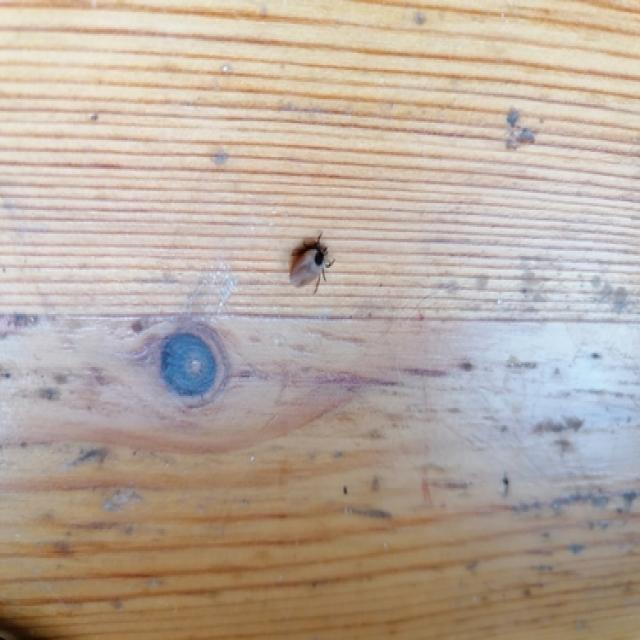Ixodes Ricinus-F-Fed: (284, 232, 339, 292)
